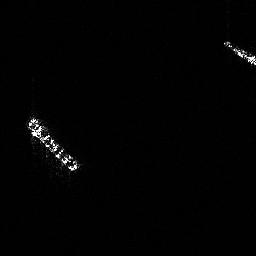ship: (23, 110, 84, 180), (222, 38, 256, 69)
